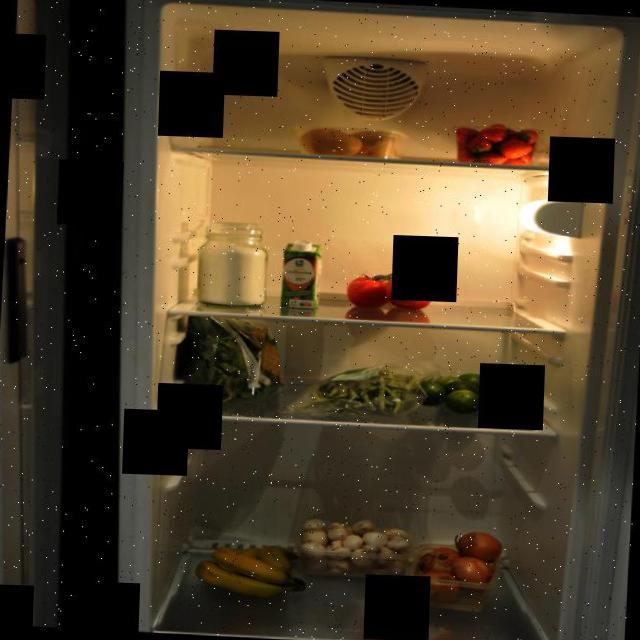Cebolla: (404, 527, 503, 612)
Champiñones: (296, 512, 420, 582)
Patata: (290, 121, 406, 163)
Plátano: (192, 540, 308, 599)
Tomate: (343, 268, 440, 316)
